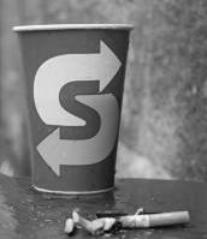paper: (10, 23, 134, 195)
